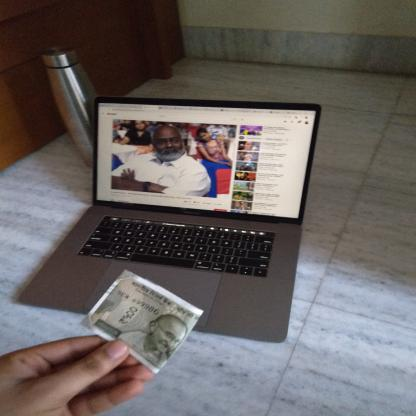New500Front: (84, 272, 204, 374)
